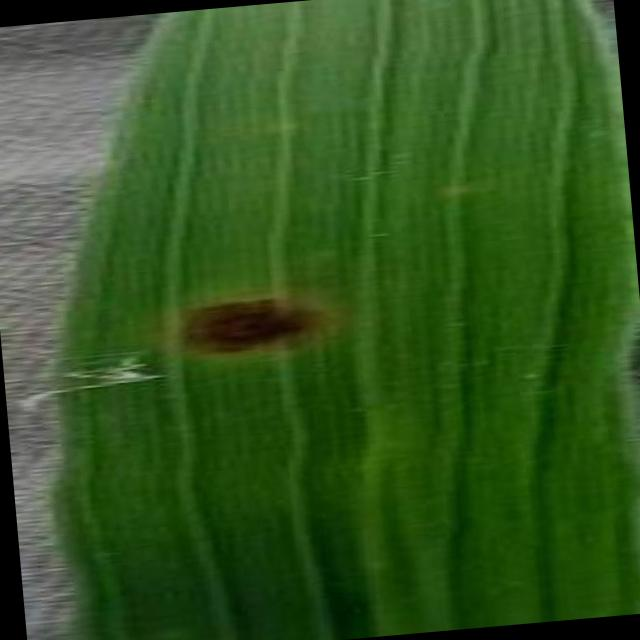Rice_Brownspot: (128, 254, 348, 387)
